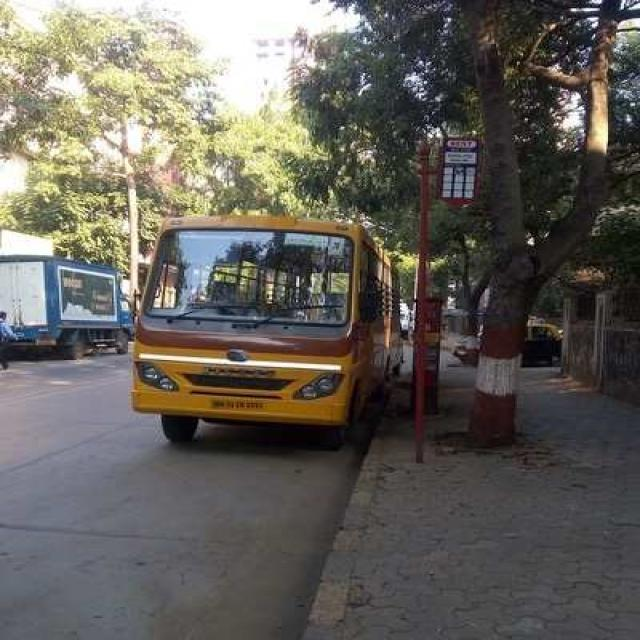bus: (132, 216, 400, 441)
